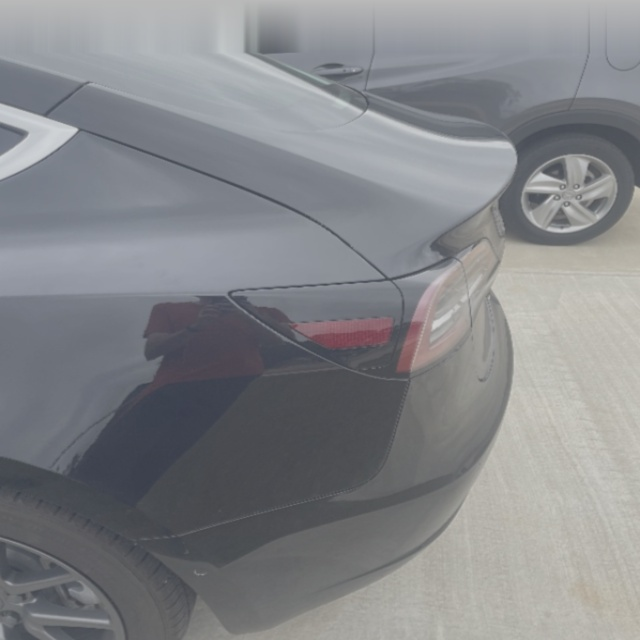reflector: (287, 316, 394, 349)
